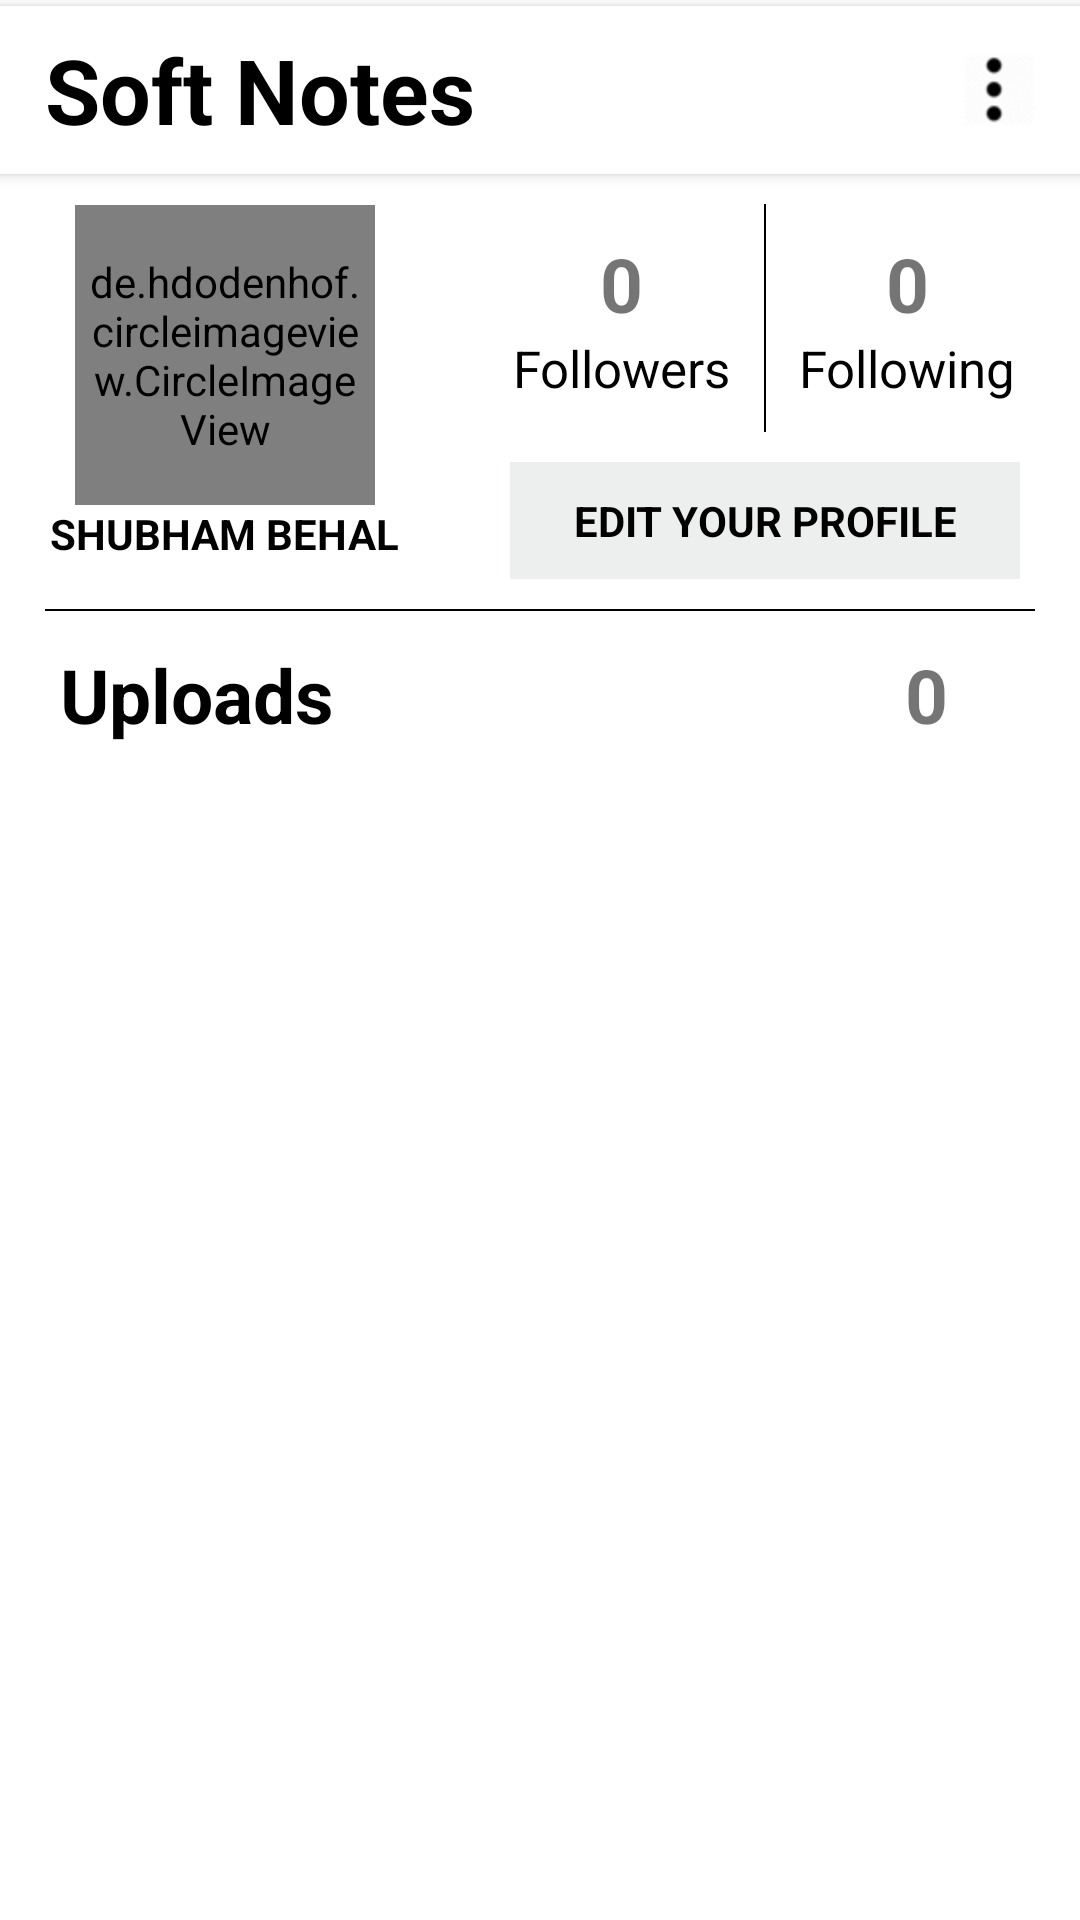

Icon click points for this 1080×1920 phone screenshot, format (x,y):
revealsettings: (994,89)
